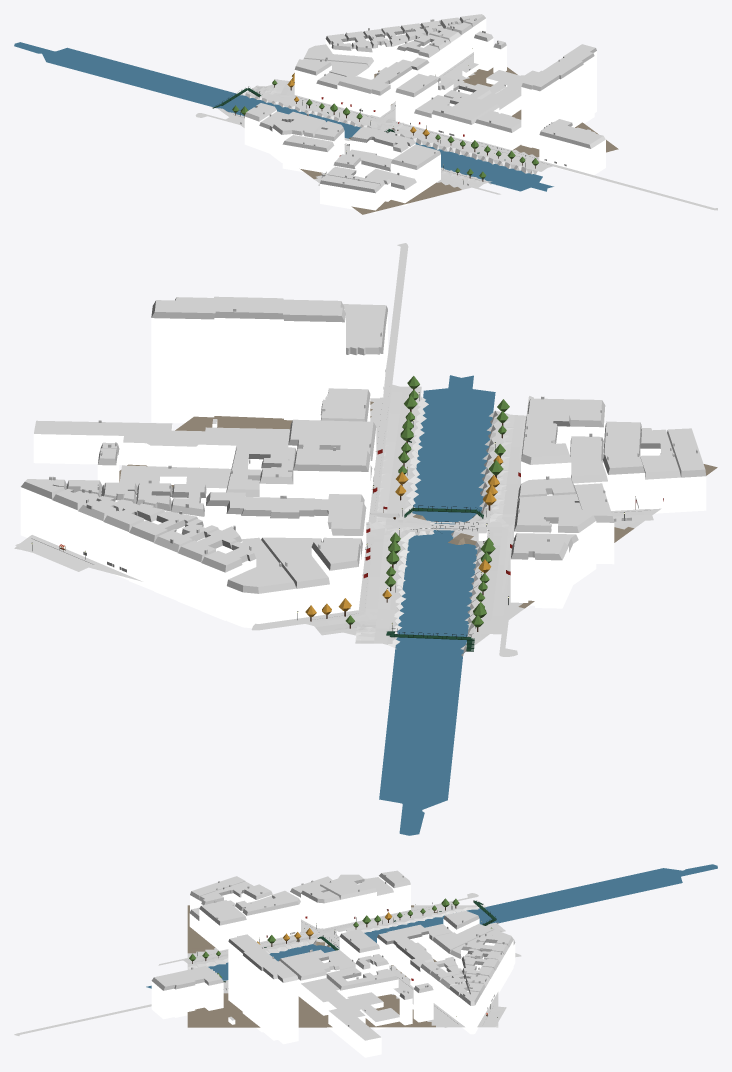
File: zone_B4.glb
The picture shows the model from 3 angles, top to bottom: view 1: azimuth 30°, elevation 25°; view 2: azimuth 150°, elevation 25°; view 3: azimuth 270°, elevation 25°; orthographic projection. The views are drawn at different scales.
Visible parts, largest first — view 1: zone_B4_batiments, zone_B4_eau, zone_B4_sol_NOCOL, zone_B4_terrain, zone_B4_decor_NOCOL; view 2: zone_B4_batiments, zone_B4_eau, zone_B4_sol_NOCOL, zone_B4_terrain, zone_B4_decor_NOCOL, zone_B4_ponts_NOCOL; view 3: zone_B4_batiments, zone_B4_eau, zone_B4_terrain, zone_B4_sol_NOCOL, zone_B4_decor_NOCOL.
Part boxes in pixels (x1,y1,x2,y2): zone_B4_batiments: (244, 14, 605, 213); zone_B4_eau: (14, 42, 553, 191); zone_B4_sol_NOCOL: (195, 52, 717, 210); zone_B4_terrain: (211, 67, 618, 214); zone_B4_decor_NOCOL: (232, 48, 538, 184); zone_B4_batiments: (20, 296, 706, 628); zone_B4_eau: (379, 375, 495, 835); zone_B4_sol_NOCOL: (15, 243, 653, 656); zone_B4_terrain: (14, 384, 717, 656); zone_B4_decor_NOCOL: (31, 376, 624, 631); zone_B4_ponts_NOCOL: (386, 505, 483, 651); zone_B4_batiments: (151, 870, 515, 1057); zone_B4_eau: (146, 864, 717, 988); zone_B4_terrain: (187, 905, 498, 1027); zone_B4_sol_NOCOL: (14, 893, 521, 1035); zone_B4_decor_NOCOL: (189, 898, 497, 1017).
Size of what is drawn, in the model's own units: 311 by 51.39 by 476.
